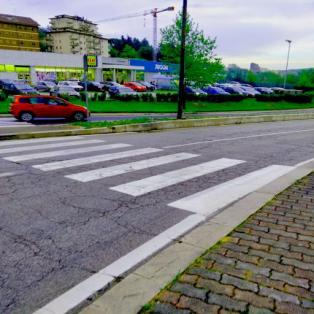Paso de Cebra: (57, 146, 253, 204)
